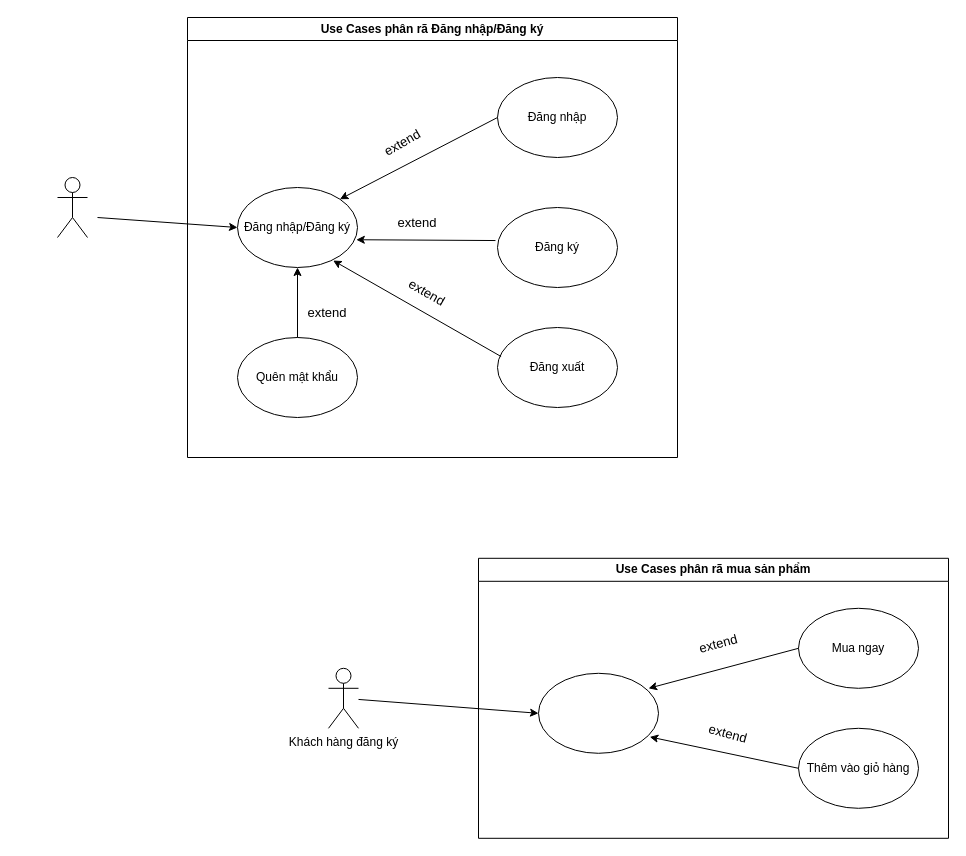
Image size: 966x856. Some labels were removed from this diagram. Each missing label, with the centre of its shape:
"Khách hàng ẩn danh" belongs at point 72,207.
"Mua sản phẩm" belongs at point 598,712.
